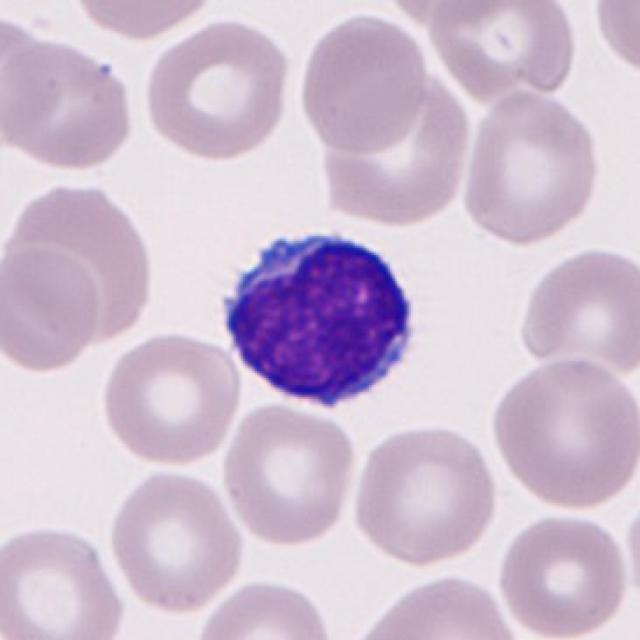Lymphocyte: (212, 217, 428, 418)
RBC: (4, 179, 159, 357), (315, 73, 477, 227), (486, 354, 638, 513), (458, 88, 605, 248), (350, 418, 502, 571), (140, 16, 295, 163), (217, 397, 360, 550), (105, 465, 248, 616), (96, 326, 243, 468), (295, 9, 432, 158), (2, 33, 140, 175), (493, 508, 633, 640), (514, 243, 638, 378), (423, 0, 582, 102), (0, 518, 131, 640), (0, 240, 101, 376), (346, 569, 525, 640), (191, 574, 339, 640), (0, 10, 63, 140), (66, 0, 226, 42), (589, 0, 638, 83), (376, 0, 505, 26)
